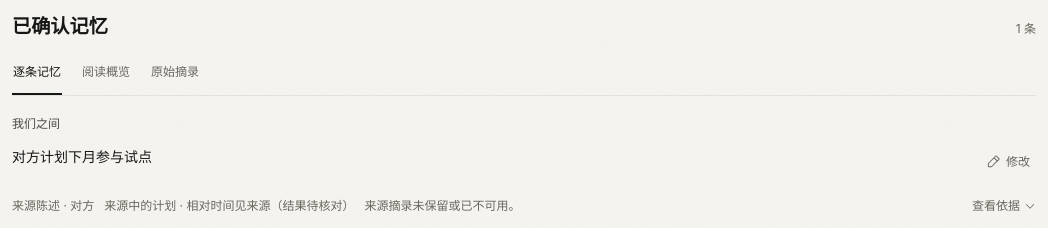
Test: person document interactions › does not expose obsolete raw text when the source is no longer retained
Click the button "原始摘录": (175, 73) top-left (150, 51), bottom-right (200, 95)
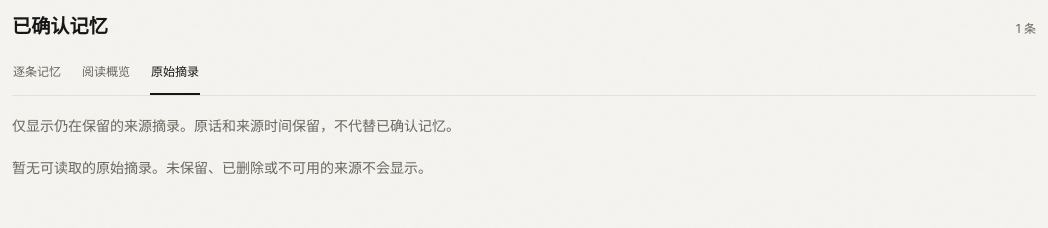
Expected: the text "暂无可读取" is shown, top-left (12, 159), bottom-right (432, 176)
